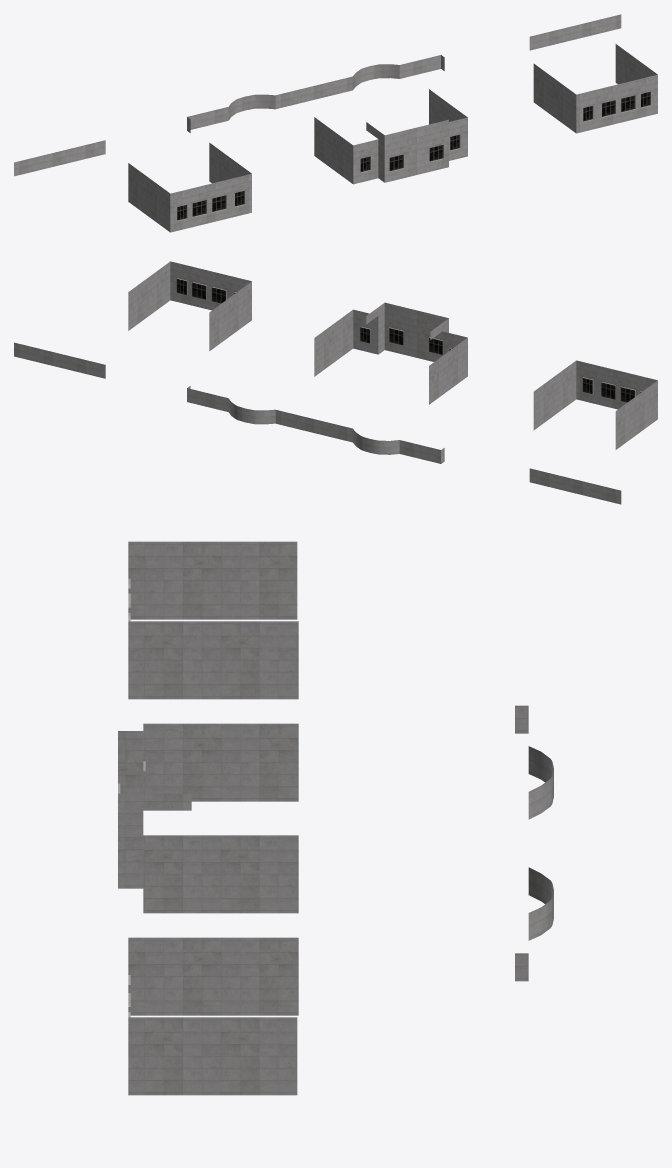
Rendered from BLD-1-Floor-Type-2.FBX.
The picture shows the model from 3 angles, top to bottom: view 1: azimuth 30°, elevation 25°; view 2: azimuth 150°, elevation 25°; view 3: azimuth 270°, elevation 25°; orthographic projection. The views are drawn at different scales.
Visible parts, largest first — view 1: Exterior-Type-02-002; view 2: Exterior-Type-02-002; view 3: Exterior-Type-02-002.
Part boxes in pixels (x1,y1,x2,y2): Exterior-Type-02-002: [14, 14, 657, 232]; Exterior-Type-02-002: [14, 261, 657, 504]; Exterior-Type-02-002: [118, 541, 553, 1095].
Size of the model in its own units: 49.13 by 3.68 by 15.28.
